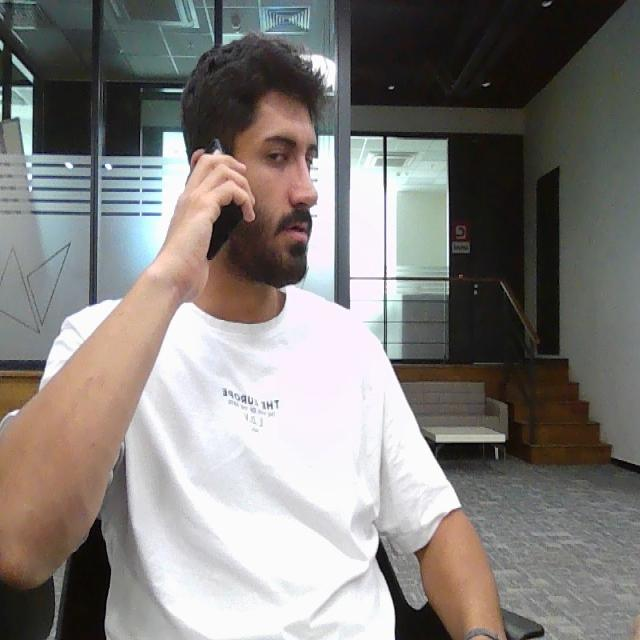phone: (186, 134, 242, 264)
